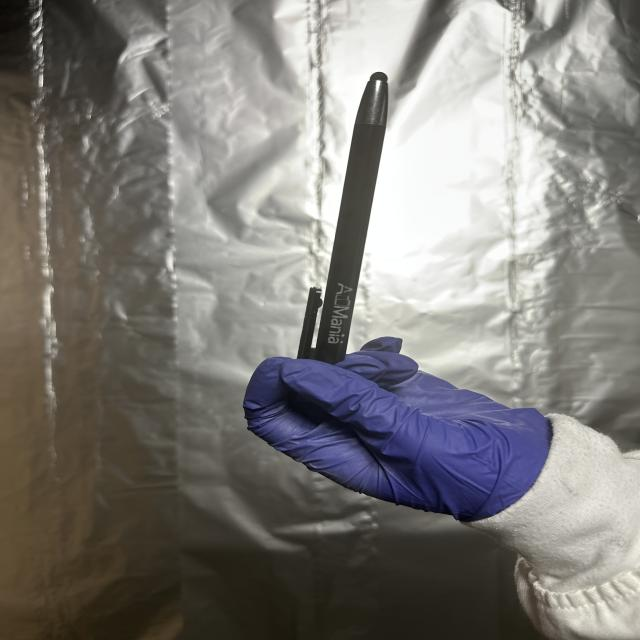gloves_contaminated: (243, 358, 551, 521)
